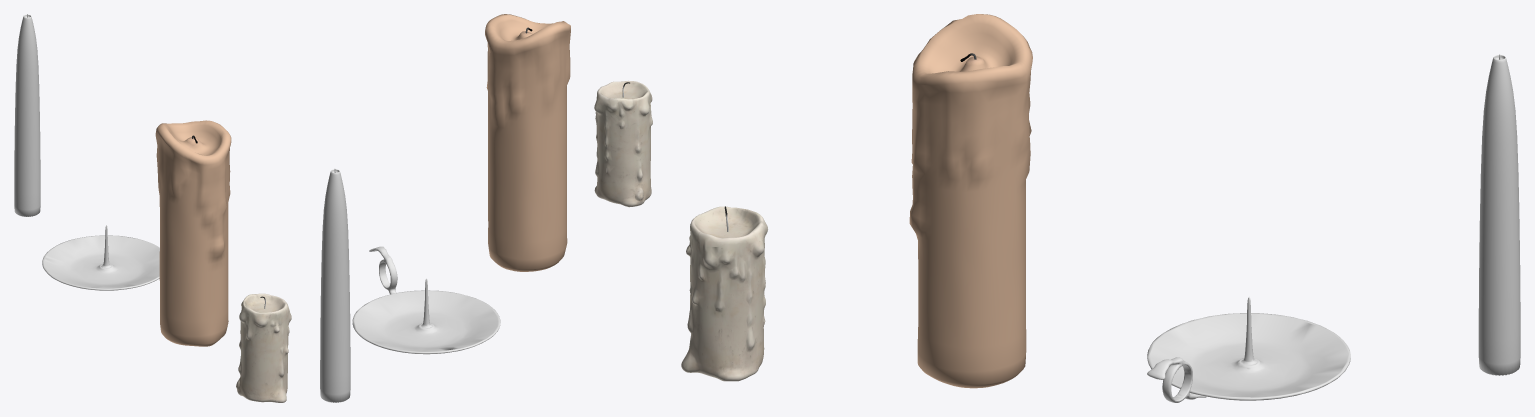
The model's file is Candles.fbx.
3 views of the same model, side by side, from view 1: azimuth 30°, elevation 25°; view 2: azimuth 150°, elevation 25°; view 3: azimuth 270°, elevation 25° (orthographic). The views are drawn at different scales.
Parts seen in each view (by area): view 1: candle_lp, candle_holder, Candle.002, Candle; view 2: candle_lp, candle_holder, Candle.002, Candle; view 3: candle_lp, candle_holder, Candle.002, Candle.
Part boxes in pixels (x1,y1,x2,y2): candle_lp: (155,120,231,346); candle_holder: (42,225,159,290); Candle.002: (236,293,291,402); Candle: (14,14,40,216); candle_lp: (485,14,570,271); candle_holder: (352,246,500,354); Candle.002: (594,81,652,207); Candle: (320,168,350,402); candle_lp: (909,14,1032,388); candle_holder: (1147,296,1350,402); Candle.002: (681,206,767,381); Candle: (1478,54,1520,375).
Size of the model in its own units: 14.05 by 21.65 by 48.72.
5 materials, 2 textured.
